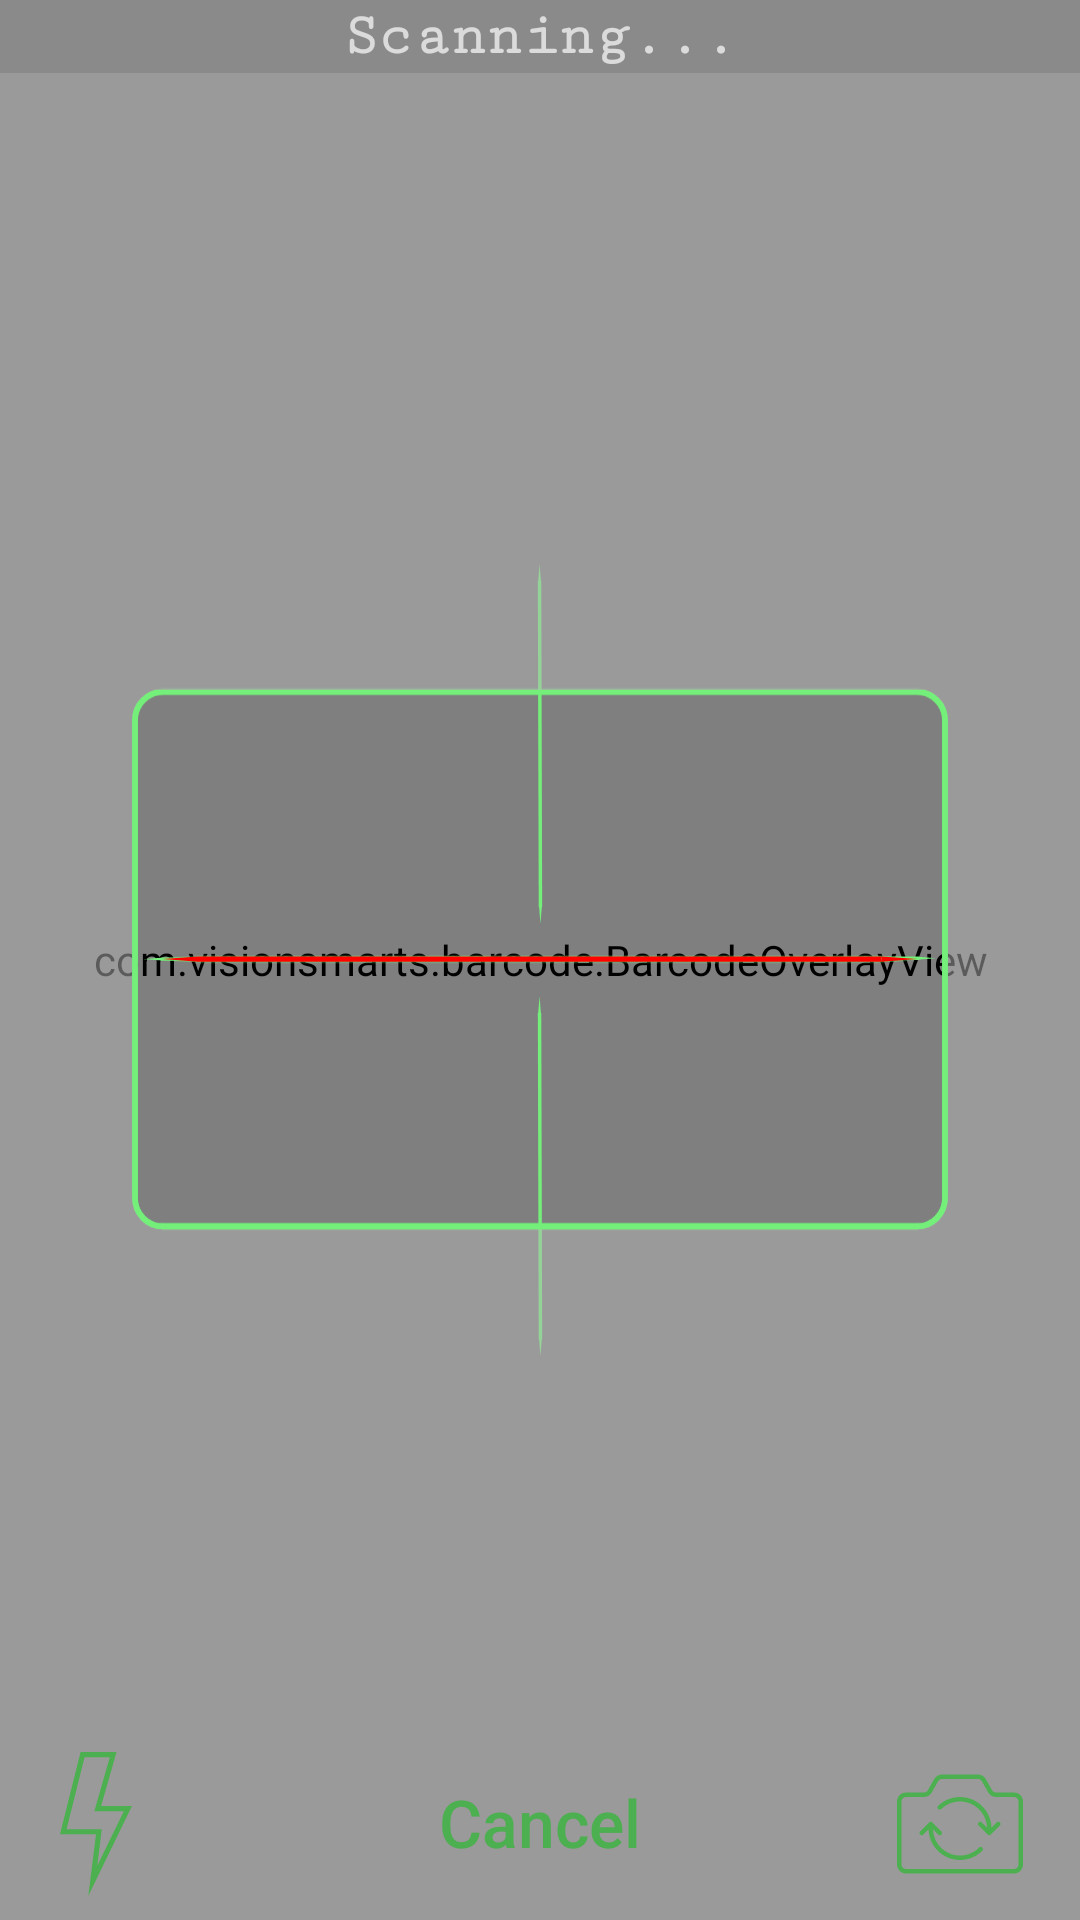

Icons on this 1080*1920 Android screen, each with its box as bbox=[x1, y1, x2, y2]:
camera flip: bbox=[897, 1774, 1023, 1874]
torch: bbox=[60, 1752, 132, 1895]
